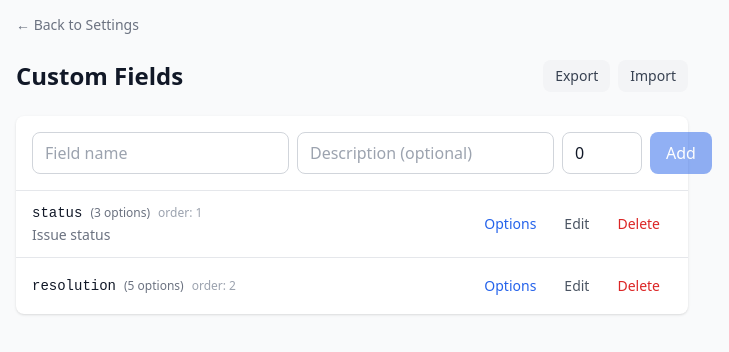
Test: SettingsCustomFields › shows edit form when edit button is clicked
This screenshot has width=729, height=352.
Check: the text "status" is shown, box [32,203,82,223]
Click the button "Edit" in the row of "order: 1": (577, 224) [552,208,602,240]
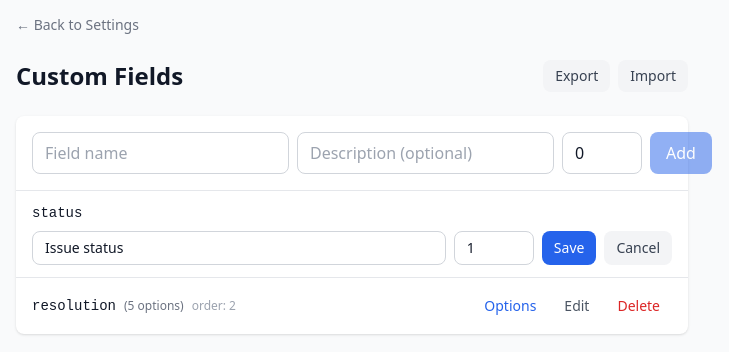
Check: the button "Save" is shown, box [542,231,596,265]
Check: the button "Cancel" is shown, box [604,231,672,265]
